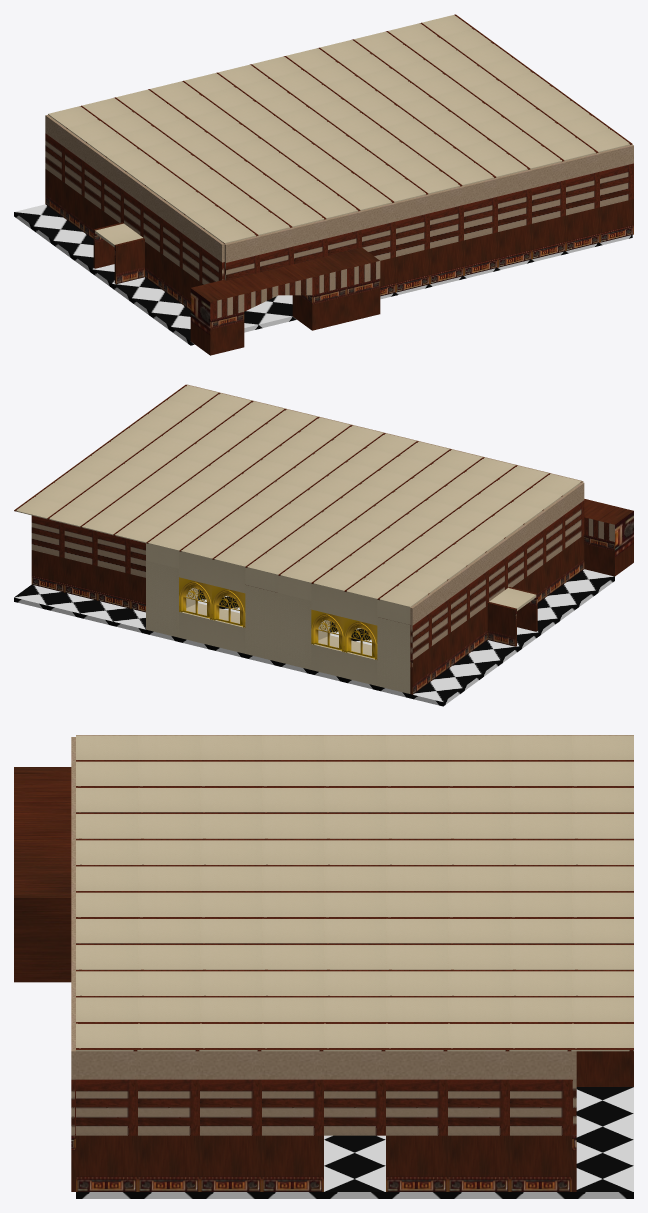
File: ConcertRoom.fbx
3 views of the same model, one above another, from view 1: azimuth 30°, elevation 25°; view 2: azimuth 150°, elevation 25°; view 3: azimuth 270°, elevation 25° (orthographic). The views are drawn at different scales.
Visible parts, largest first — view 1: ConcertRoomCeiling, HallWallB0TunnelRight, ConcertRoomWallB1Front, ConcertRoomWallB0Front, ConcertRoomWallB2Front, ConcertRoomFloorTiles, ConcertRoomWallB1Left, ConcertRoomWallB2Left, ConcertRoomWallB1Front.001, ConcertRoomWallDoor, ConcertRoomWallB0Left.001, ConcertRoomWallB0Left; view 2: ConcertRoomCeiling, ConcertRoomFloorTiles, ConcertRoomWallWindow.002, ConcertRoomWallWindow.001, ConcertRoomWallB1Left, ConcertRoomWallB0Back, ConcertRoomWallB1Back, ConcertRoomWallB2Left, HallWallB0TunnelRight, ConcertRoomWallB0Left.001, ConcertRoomWallDoor, ConcertRoomWallB0Left (+5 smaller); view 3: ConcertRoomCeiling, ConcertRoomWallB1Right, ConcertRoomWallB2Right, ConcertRoomWallB0Right.001, ConcertRoomFloorTiles, HallWallB0TunnelRight, ConcertRoomWallB0Right, ConcertRoomWallWindow.001, ConcertRoomWallB2Front.
Boxes of the visible parts, x1,y1,x2,y2 form: ConcertRoomCeiling: (48,14,632,243); HallWallB0TunnelRight: (190,247,380,355); ConcertRoomWallB1Front: (362,163,633,260); ConcertRoomWallB0Front: (380,199,633,296); ConcertRoomWallB2Front: (224,144,633,262); ConcertRoomFloorTiles: (14,204,632,345); ConcertRoomWallB1Left: (45,133,224,284); ConcertRoomWallB2Left: (45,115,224,262); ConcertRoomWallB1Front.001: (224,230,361,280); ConcertRoomWallDoor: (93,222,144,284); ConcertRoomWallB0Left.001: (45,169,119,239); ConcertRoomWallB0Left: (145,242,203,310); ConcertRoomCeiling: (14,384,581,607); ConcertRoomFloorTiles: (14,569,614,706); ConcertRoomWallWindow.002: (278,575,410,693); ConcertRoomWallWindow.001: (146,543,278,661); ConcertRoomWallB1Left: (410,500,584,659); ConcertRoomWallB0Back: (31,550,145,612); ConcertRoomWallB1Back: (31,515,145,577); ConcertRoomWallB2Left: (410,482,584,625); HallWallB0TunnelRight: (584,499,633,576); ConcertRoomWallB0Left.001: (410,605,487,694); ConcertRoomWallDoor: (487,587,537,646); ConcertRoomWallB0Left: (512,535,584,602); ConcertRoomCeiling: (76,735,633,1051); ConcertRoomWallB1Right: (76,1079,571,1135); ConcertRoomWallB2Right: (76,1051,571,1079); ConcertRoomWallB0Right.001: (76,1135,323,1191); ConcertRoomFloorTiles: (76,1087,633,1198); HallWallB0TunnelRight: (14,767,71,982); ConcertRoomWallB0Right: (386,1135,571,1191); ConcertRoomWallWindow.001: (576,1051,633,1086); ConcertRoomWallB2Front: (71,737,75,1079).
Size of the model in its own units: 2600 by 530 by 2000.
